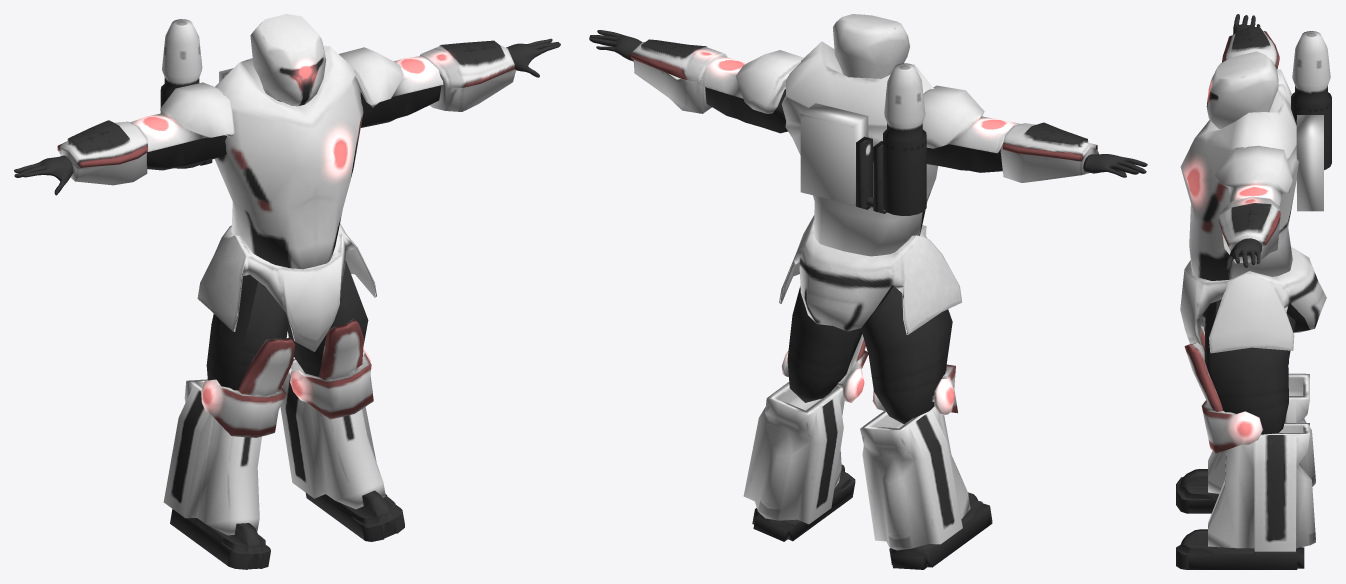
File: CybordwithTextures.fbx
3 views of the same model, side by side, from view 1: azimuth 30°, elevation 25°; view 2: azimuth 150°, elevation 25°; view 3: azimuth 270°, elevation 25° (orthographic). The views are drawn at different scales.
Visible parts, largest first — view 1: ShiledKnight; view 2: ShiledKnight; view 3: ShiledKnight.
Part boxes in pixels (x1,y1,x2,y2): ShiledKnight: (14,14,560,569); ShiledKnight: (589,14,1147,569); ShiledKnight: (1176,14,1331,569).
Bounding box in the file's own units: 226 × 59.21 × 200.
Materials: 1 (1 with a texture image).
